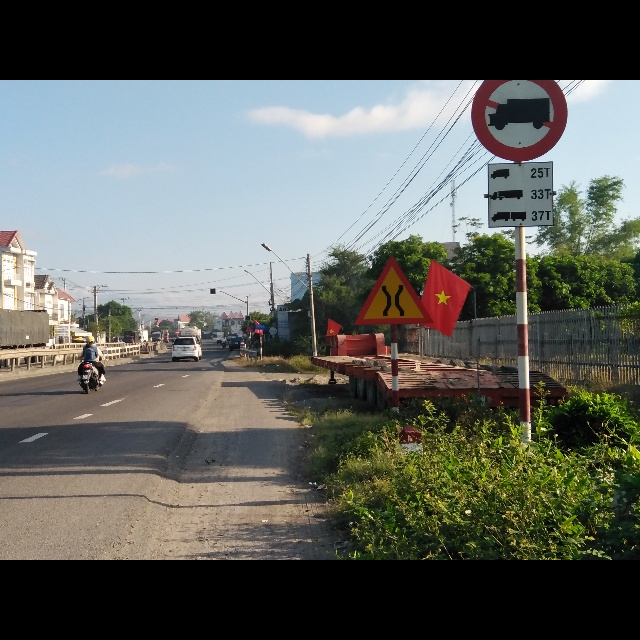Cấm xe tải: (470, 81, 568, 160)
Cầu hẹp: (354, 256, 430, 326)
